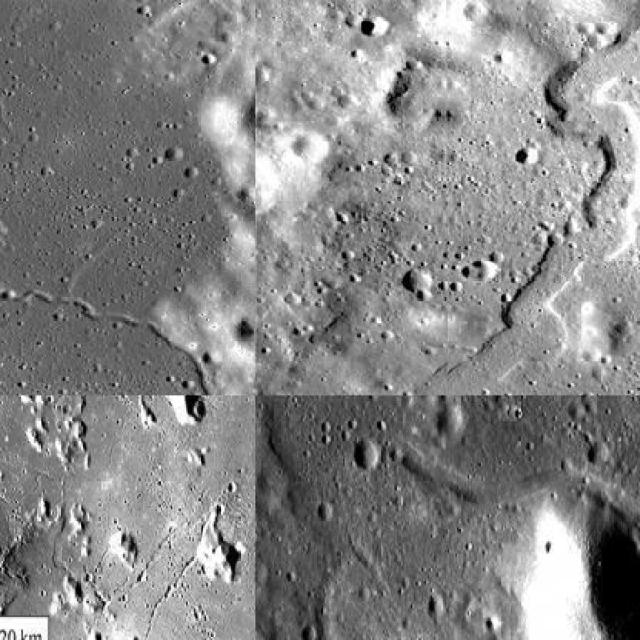rille: (0, 55, 217, 394), (462, 46, 638, 385), (391, 434, 638, 638), (0, 396, 254, 524), (303, 560, 579, 638)
